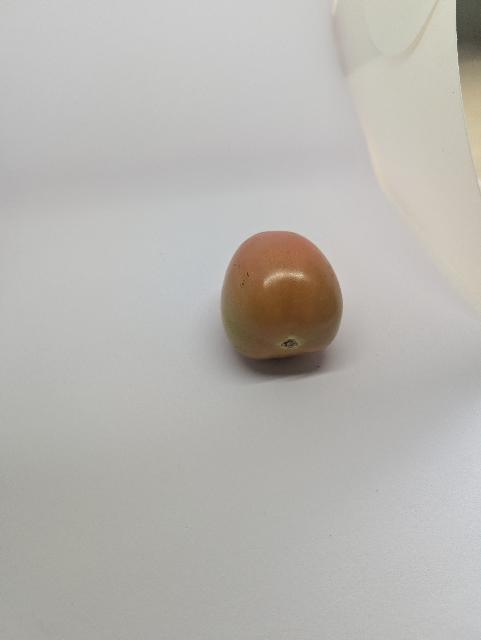turning: (213, 222, 350, 369)
